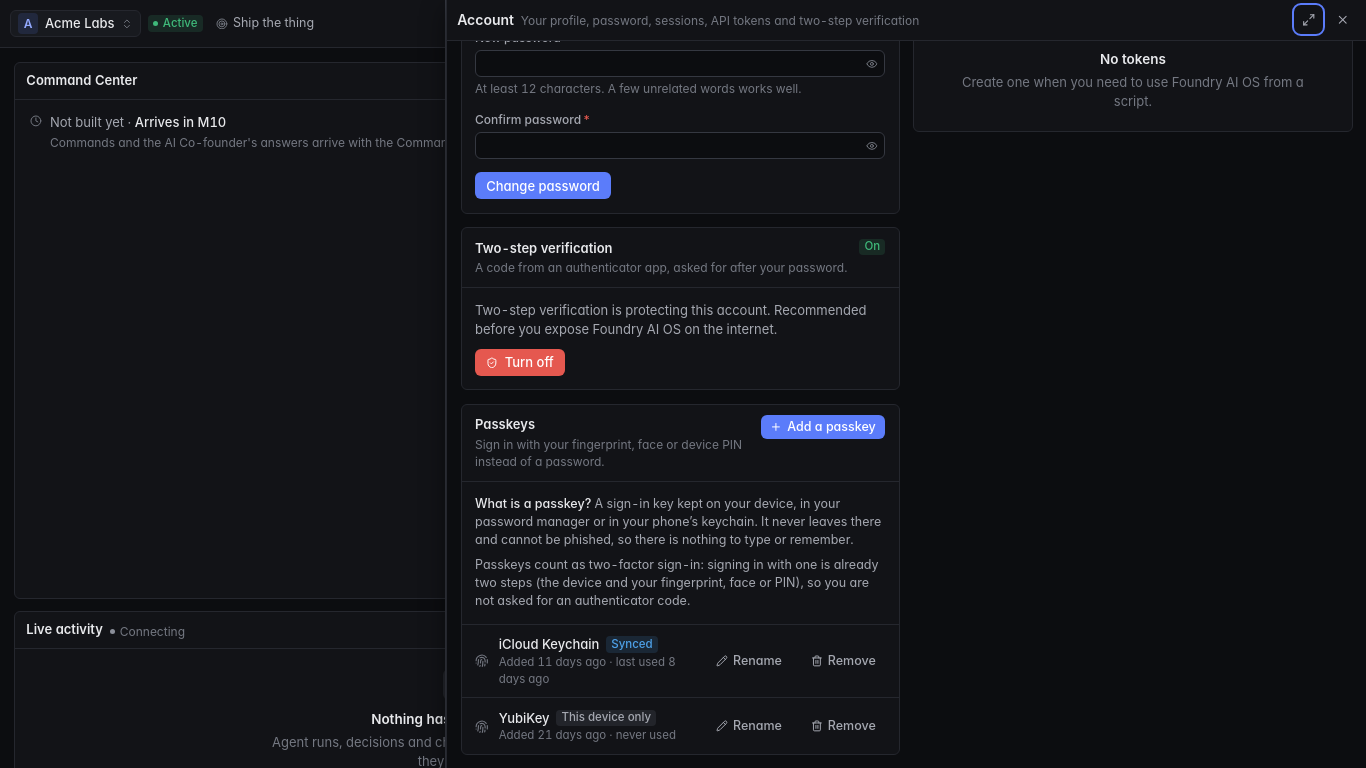
Test: passkeys in the account panel › removing › asks for the password on reauth_required and retries the same removal with it
(page scrolled)
Click the button with aria-label "Remove passkey iCloud Keychain": (843, 661) [802, 649, 885, 673]
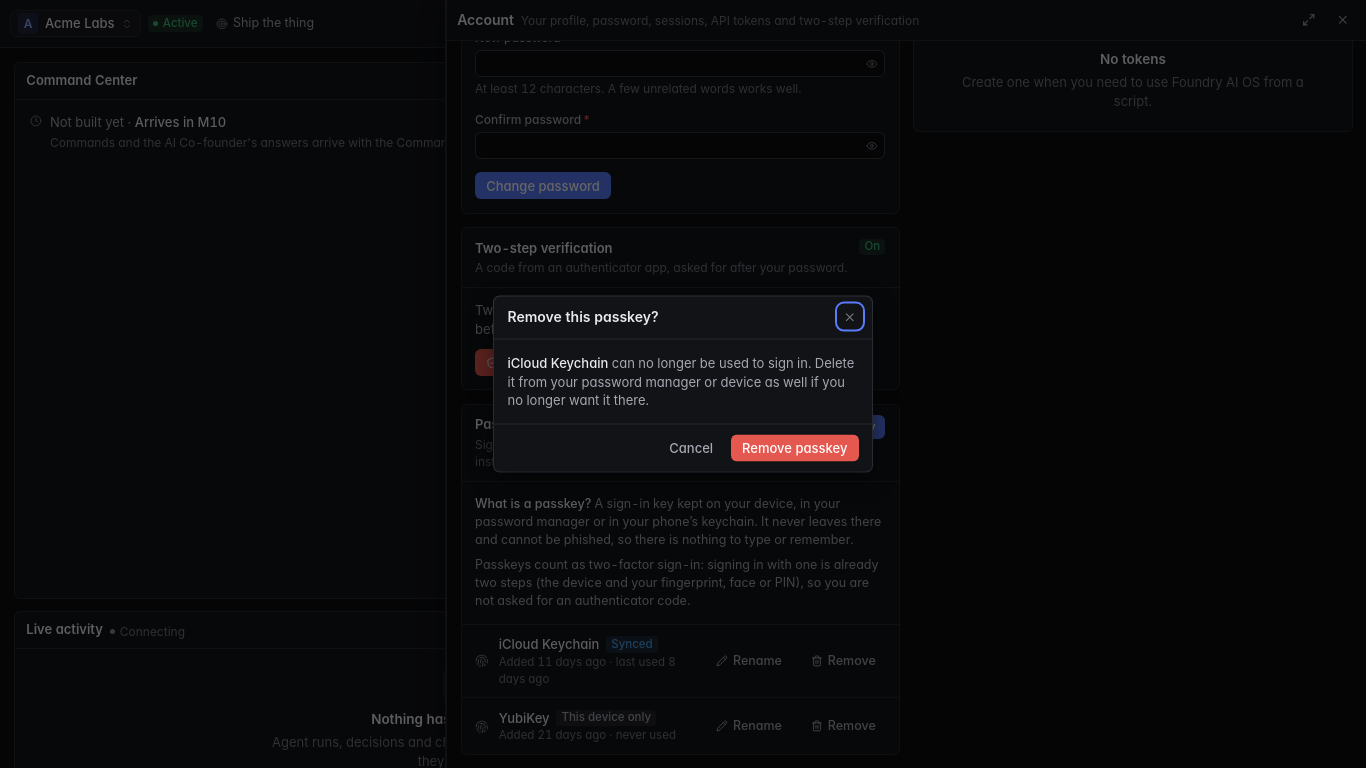
Click the button "Remove passkey": (795, 448) [731, 434, 858, 461]
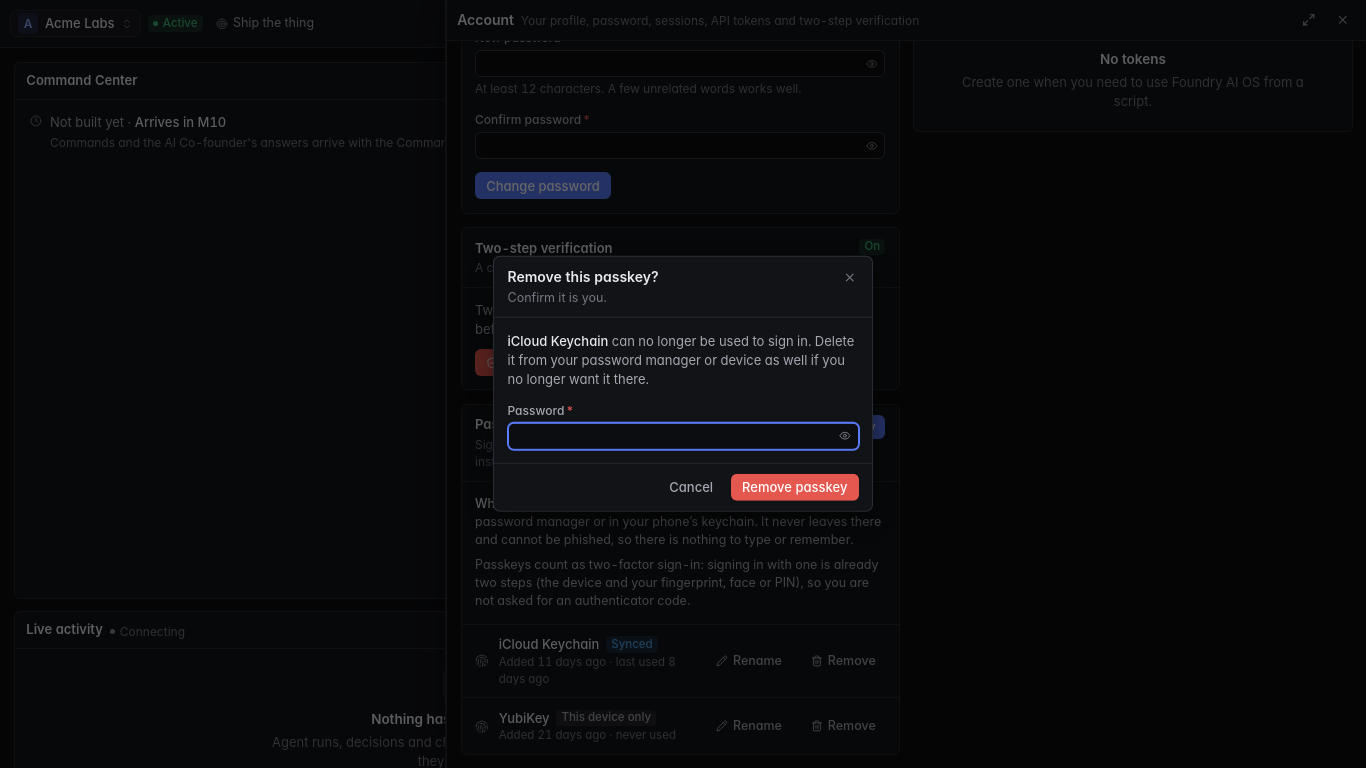
Note: an empty password is not sent
Click the button "Remove passkey": (795, 488) [731, 474, 858, 501]
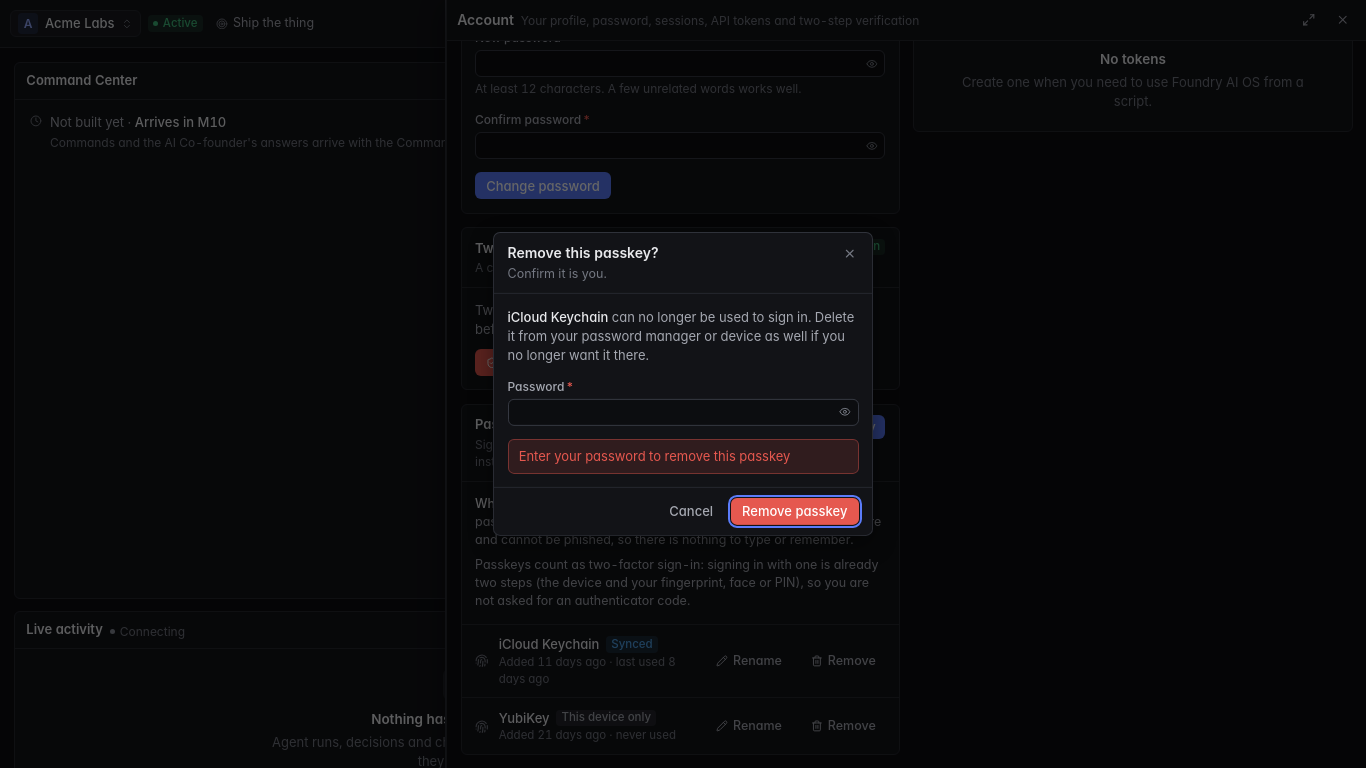
Result: the message shows "Enter your password" at [519, 448, 790, 464]
In the password field labelled "Password*": (683, 412) [508, 398, 858, 426], type "correct horse battery"
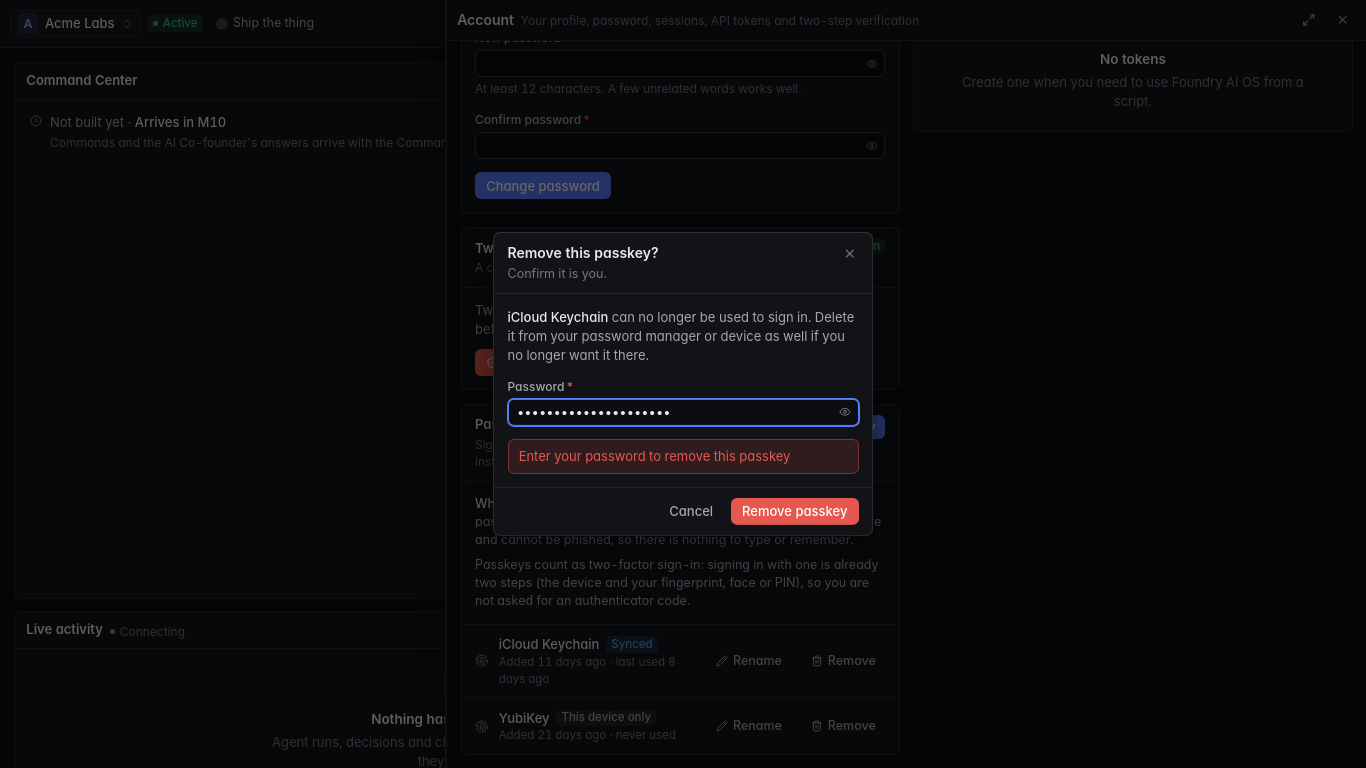
Click the button "Remove passkey": (795, 512) [731, 498, 858, 525]
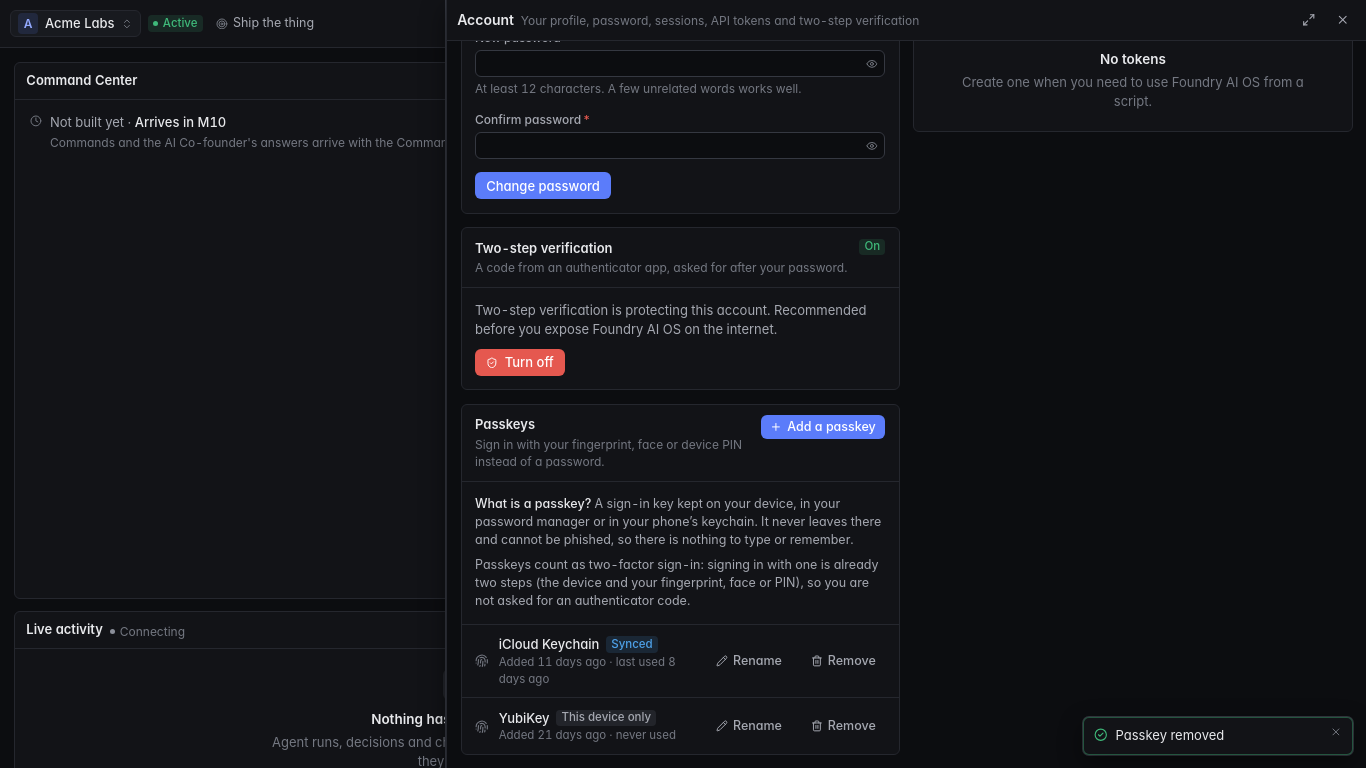
Result: the heading "Remove this passkey?" is gone
